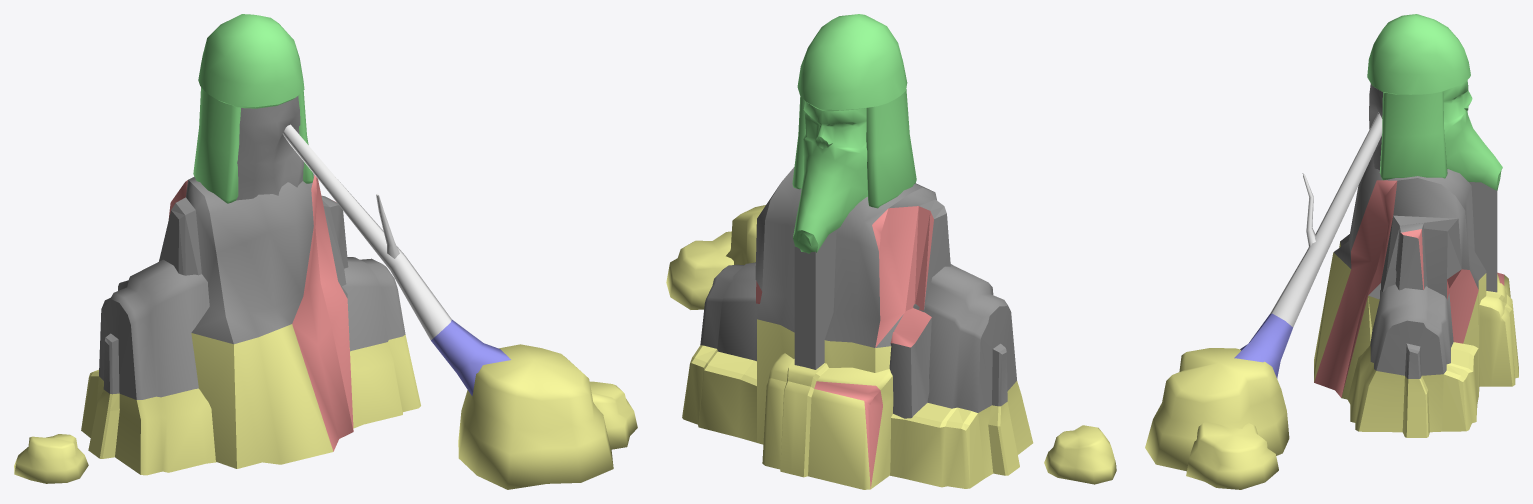
The model's file is PriMT_LandMark4_Statue01.gltf.
3 views of the same model, side by side, from view 1: azimuth 30°, elevation 25°; view 2: azimuth 150°, elevation 25°; view 3: azimuth 270°, elevation 25° (orthographic). The views are drawn at different scales.
Visible parts, largest first — view 1: PriMT_LandMark4_Statue01; view 2: PriMT_LandMark4_Statue01; view 3: PriMT_LandMark4_Statue01.
Part boxes in pixels (<box>): PriMT_LandMark4_Statue01: <box>14,14,637,489</box>; PriMT_LandMark4_Statue01: <box>666,14,1116,489</box>; PriMT_LandMark4_Statue01: <box>1145,14,1518,489</box>.
Bounding box in the file's own units: 14.22 × 10.56 × 9.9.
